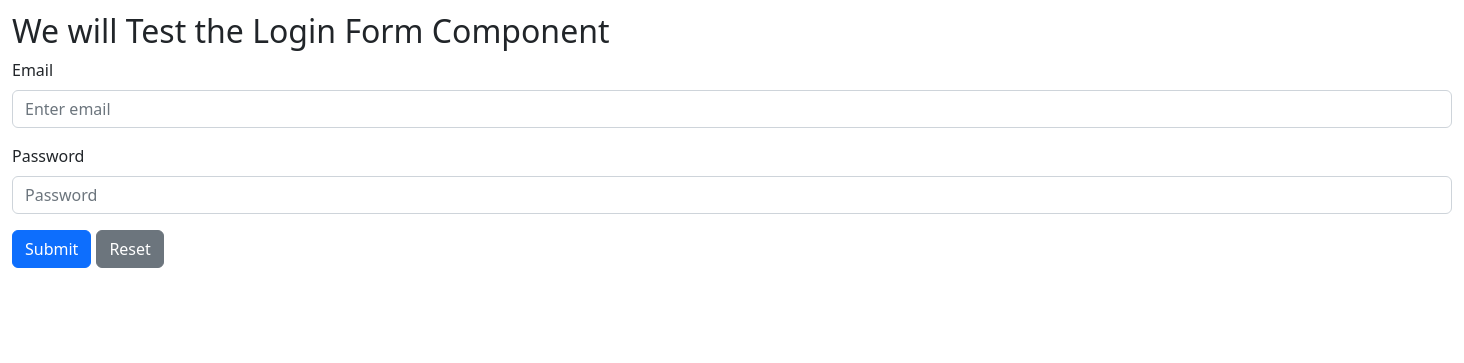
Test: Test the Login component › should be able to submit the form
In the field with placeholder "Enter email": (732, 109) [12,90,1452,128], type "firada@gmail.com"
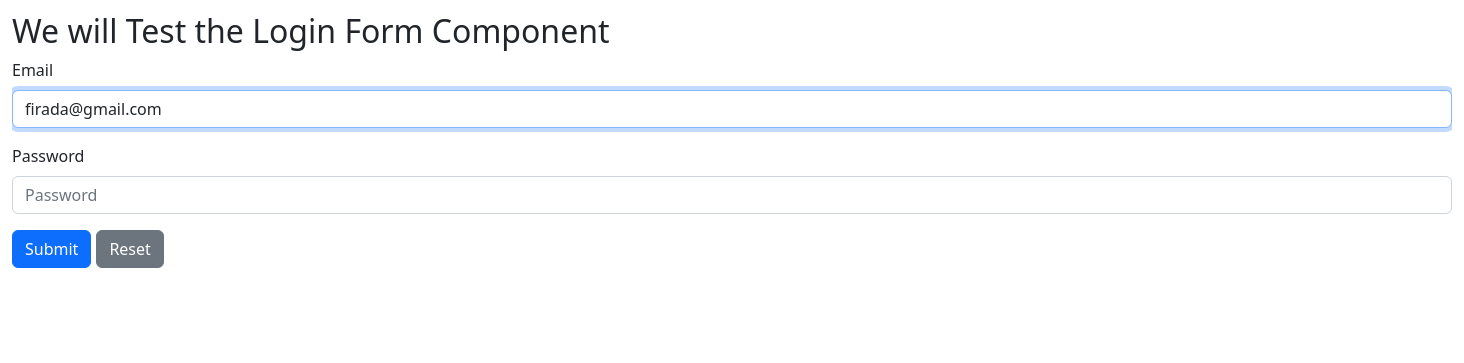
In the password field with placeholder "Password": (732, 195) [12,176,1452,214], type "1234567"
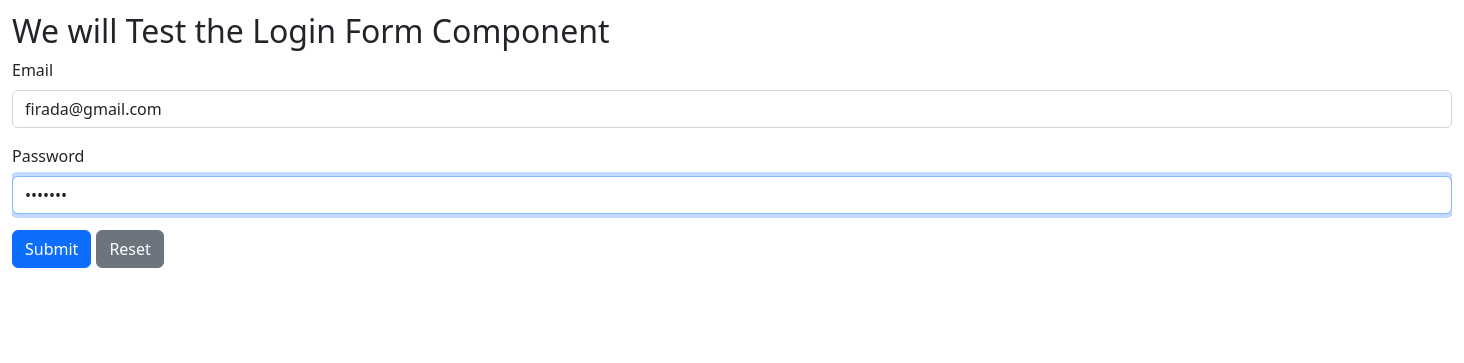
Click the button with test id "submit": (52, 249) [12,230,91,268]
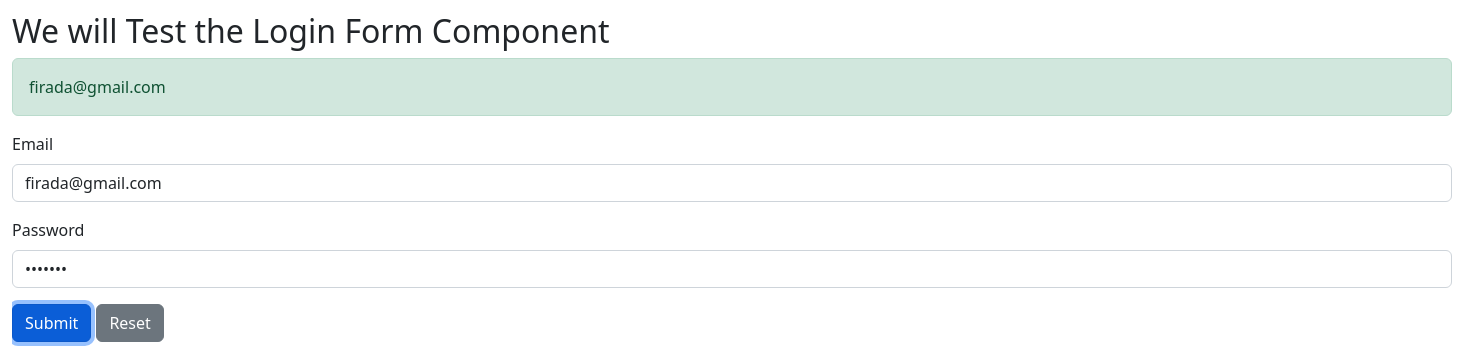
Check: the message with test id "user" reads "firada@gmail.com", box [29,76,166,98]
